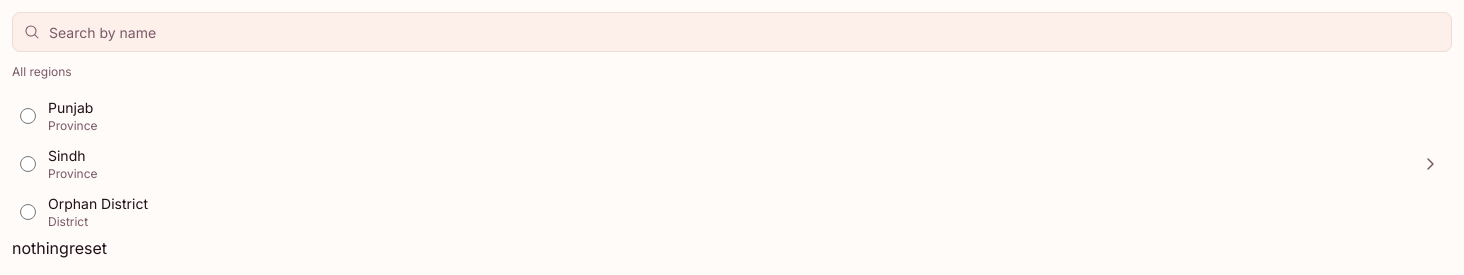
Test: RegionPicker › searches by name across every level into a flat list with each result’s parents, hiding the trail
This screenshot has width=1464, height=275.
Type "sukkur" into the search field named "Search regions" at (732, 32), box [12,12,1452,52]
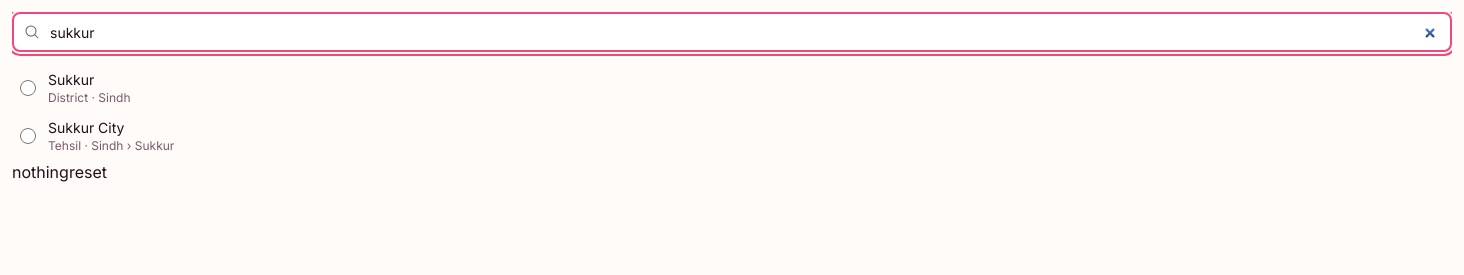
Click the radio button labelled "Sukkur City Tehsil · Sindh › Sukkur" at (28, 136), box [20,128,36,144]
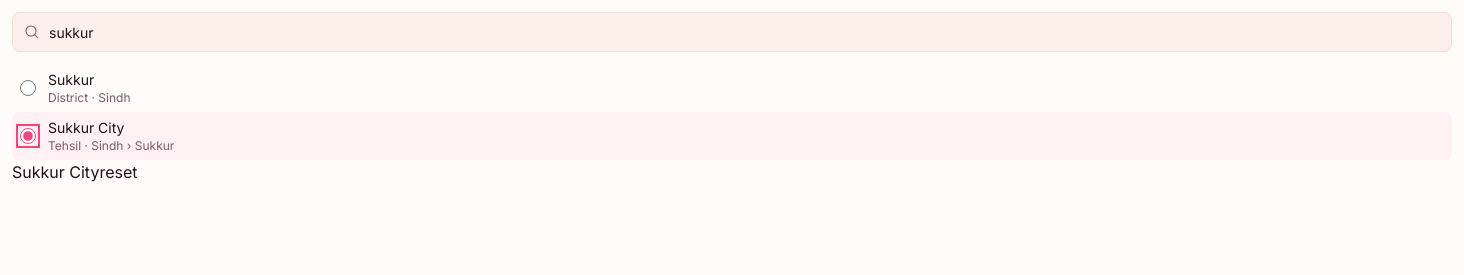
Result: the text with test id "selected" reads "Sukkur City" at [12,162,99,182]
